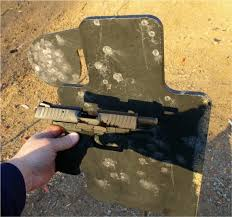Gun: (40, 103, 147, 137)
